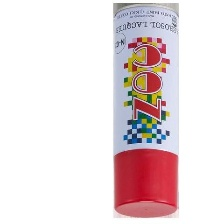aerosol_cans: (110, 1, 182, 219)
